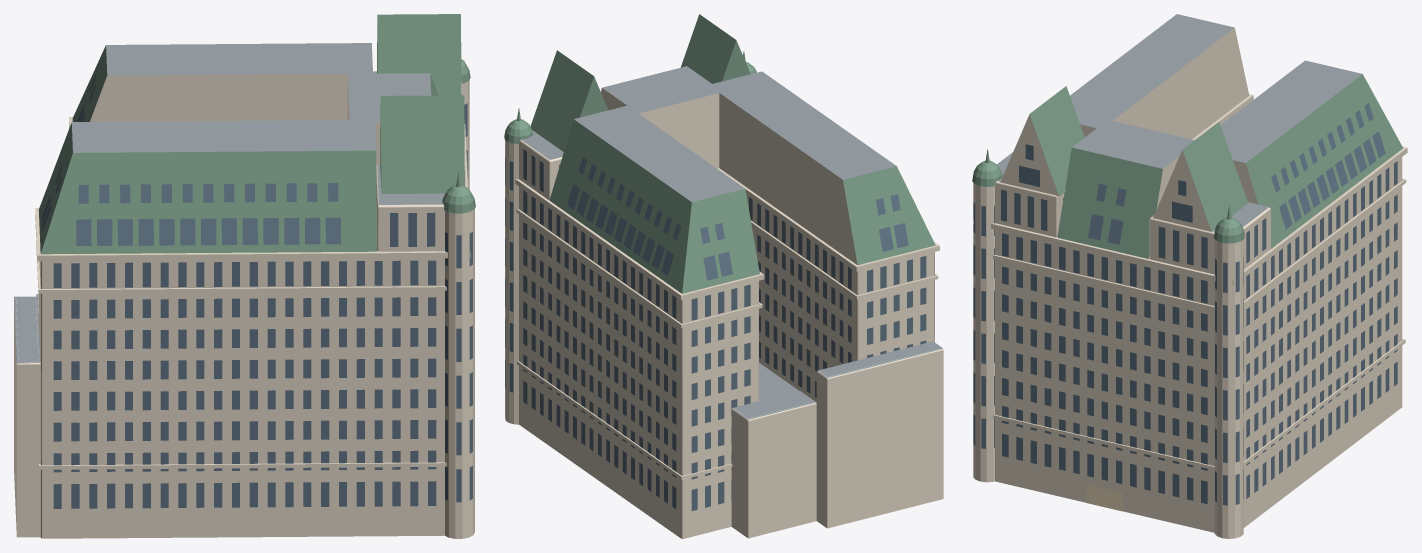
Rendered from detail.glb.
The picture shows the model from 3 angles, left to right: view 1: azimuth 30°, elevation 25°; view 2: azimuth 150°, elevation 25°; view 3: azimuth 270°, elevation 25°; orthographic projection. The views are drawn at different scales.
Visible parts, largest first — view 1: the-plaza; view 2: the-plaza; view 3: the-plaza.
Part boxes in pixels (x1=…): the-plaza: x1=14, y1=14, x2=475, y2=538; the-plaza: x1=504, y1=14, x2=943, y2=538; the-plaza: x1=972, y1=14, x2=1407, y2=538.
Size of the model in its own units: 109 by 90 by 94.73.
